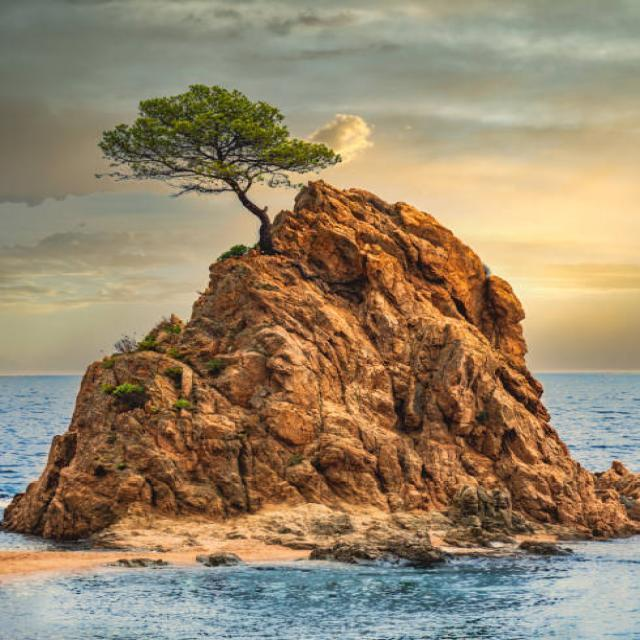Tree: (106, 80, 337, 252)
